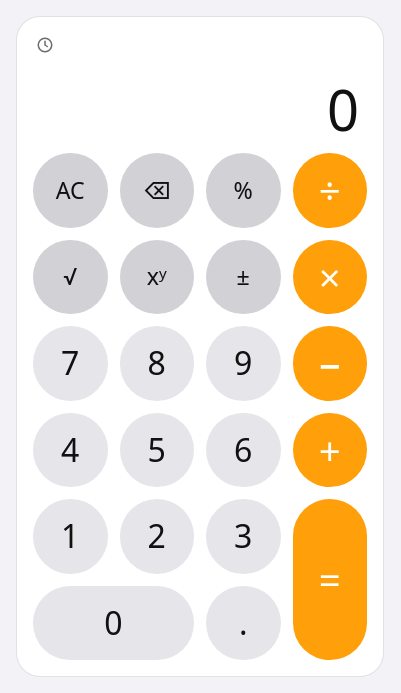
Calculator › evaluates 2 + 3 × 4 = 14 in a single request
Click the button "2".
click(157, 536)  # box x1=120 y1=499 x2=194 y2=574
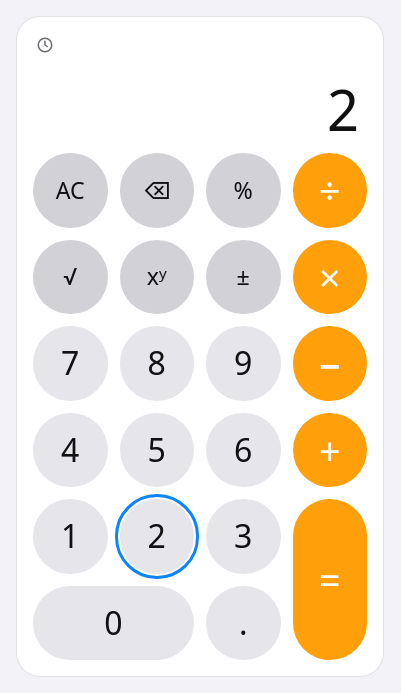
Click the button named "Add".
click(330, 450)  # box x1=292 y1=412 x2=367 y2=487
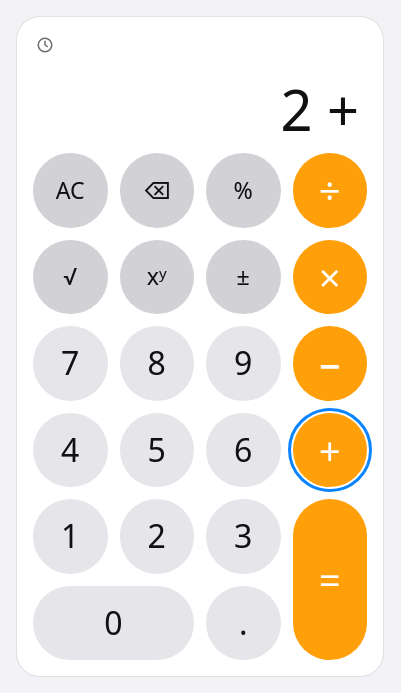
Click the button "3".
click(243, 536)  # box x1=206 y1=499 x2=280 y2=574
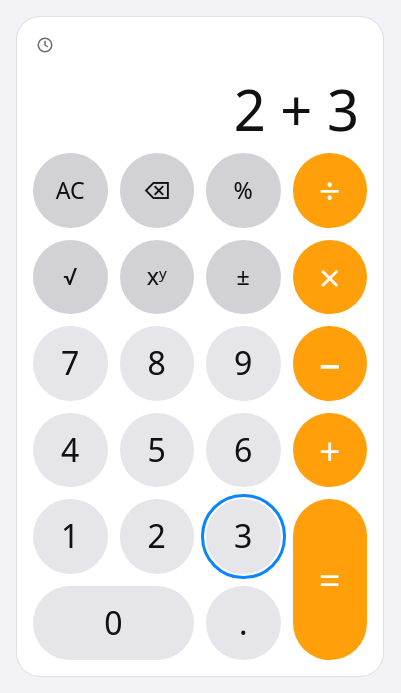
Click the button named "Multiply".
click(330, 277)  # box x1=292 y1=240 x2=367 y2=314
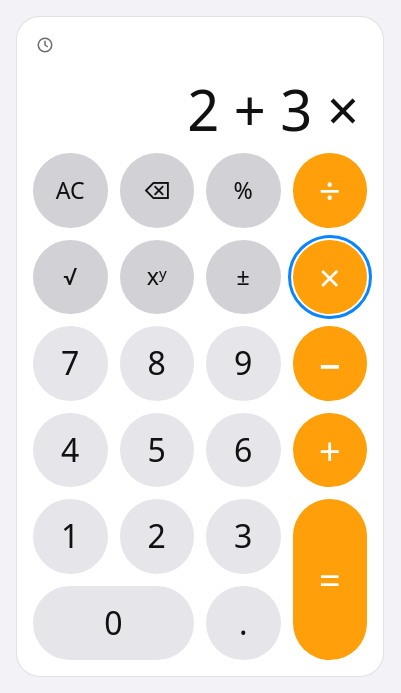
Click the button "4".
click(70, 450)  # box x1=33 y1=412 x2=108 y2=487
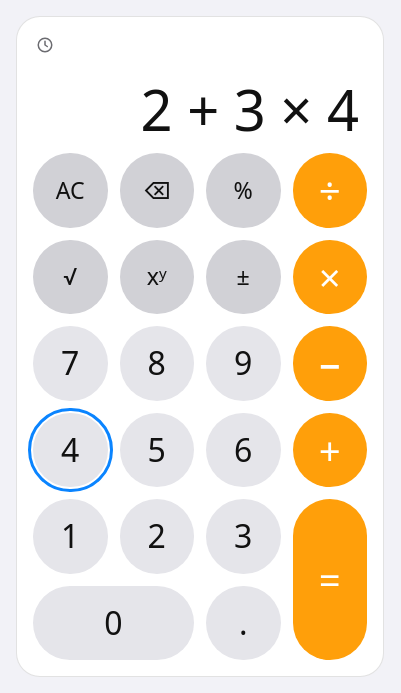
Click the button named "Equals".
click(330, 580)  # box x1=292 y1=499 x2=367 y2=660
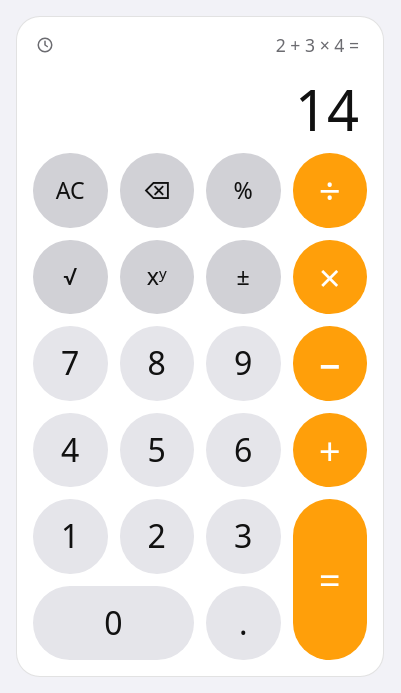
Check: the message reads "14", box x1=295 y1=71 x2=359 y2=147
